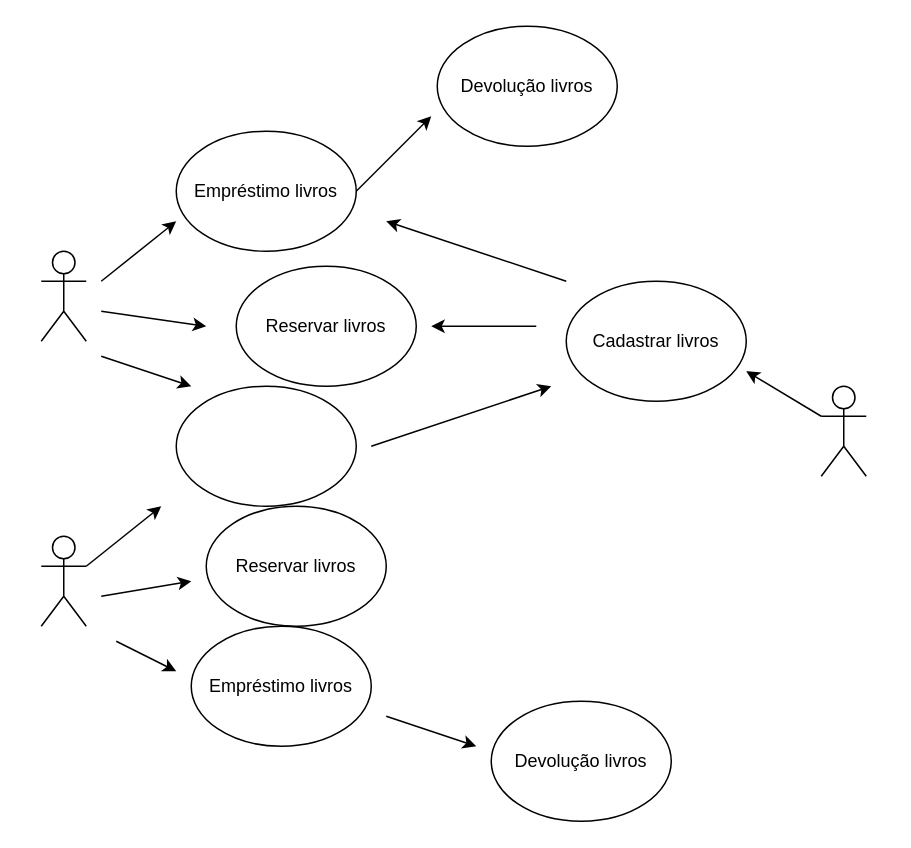
This 911x848 diagram has some shape labels left out. Here are the shapes that lost their labels. From the top down, the centre of each, then its label:
point 63,295: Aluno
point 265,445: Consultar livros
point 843,430: Atendente
point 63,580: Professor
